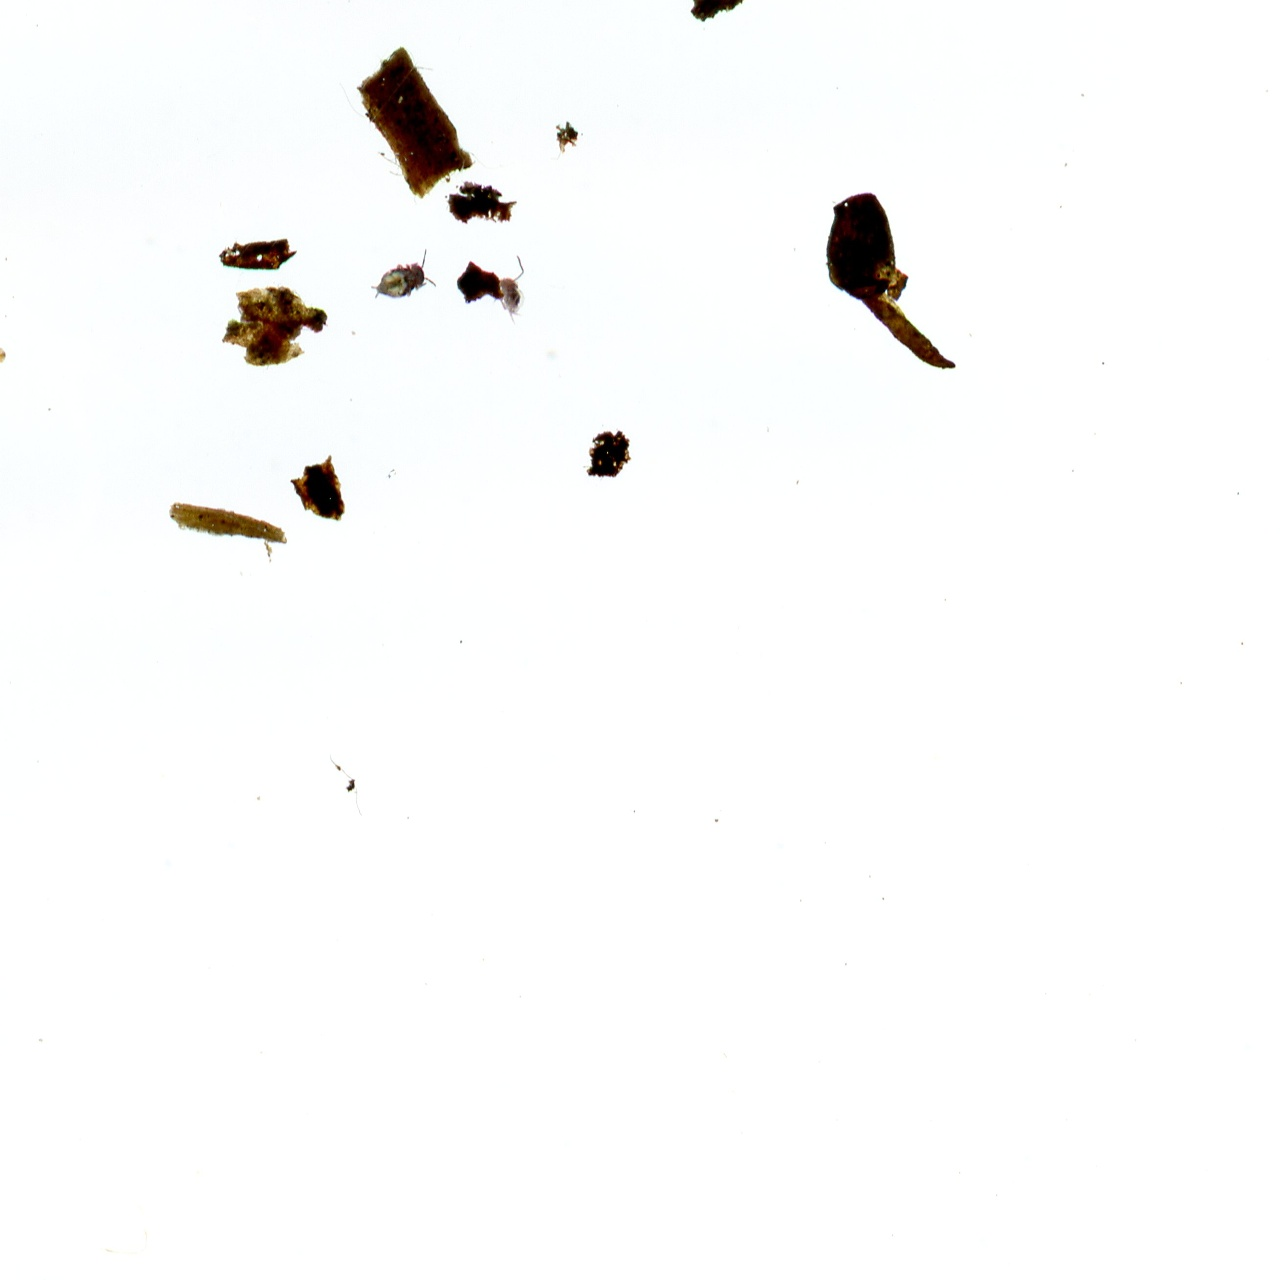arthropod: (361, 244, 444, 313), (492, 253, 527, 326)
